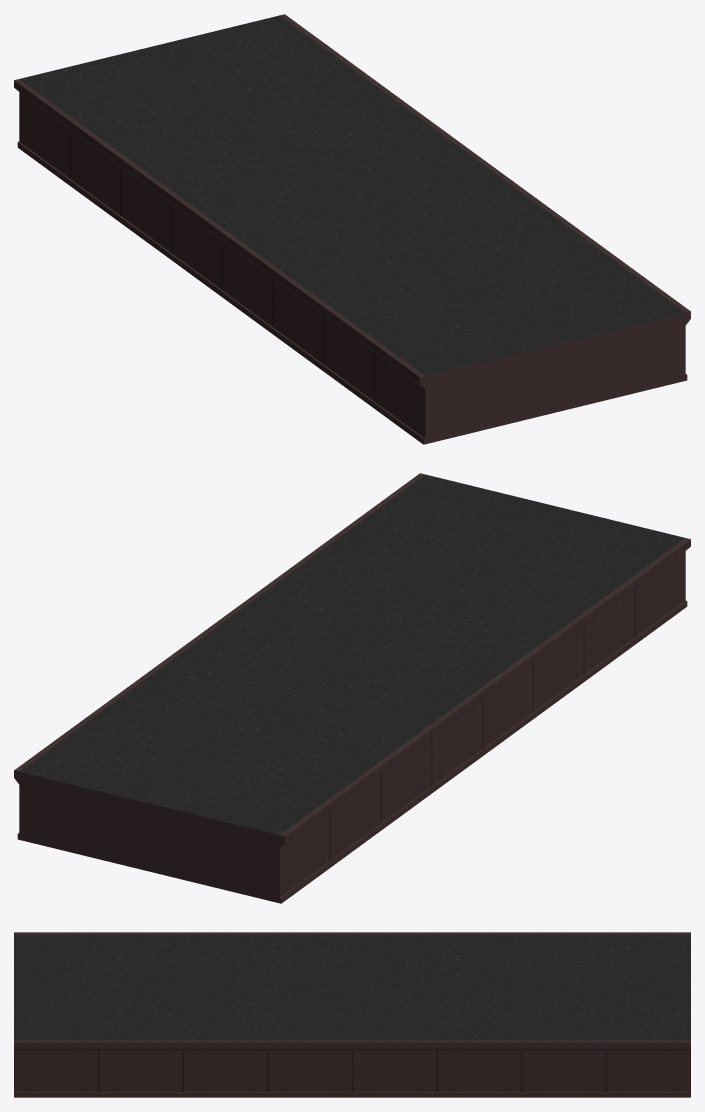
Rendered from SW_ENV_EL_TrackBase_Double_20m.fbx.
3 renders of one model, top to bottom at view 1: azimuth 30°, elevation 25°; view 2: azimuth 150°, elevation 25°; view 3: azimuth 270°, elevation 25°, orthographic. The views are drawn at different scales.
Visible parts, largest first — view 1: SW_ENV_EL_TrackBase_Double_20m; view 2: SW_ENV_EL_TrackBase_Double_20m; view 3: SW_ENV_EL_TrackBase_Double_20m.
Boxes of the visible parts, x1,y1,x2,y2 form: SW_ENV_EL_TrackBase_Double_20m: [14, 14, 690, 444]; SW_ENV_EL_TrackBase_Double_20m: [14, 473, 690, 903]; SW_ENV_EL_TrackBase_Double_20m: [14, 932, 690, 1097].
Size of the model in its own units: 770 by 185 by 2000.
